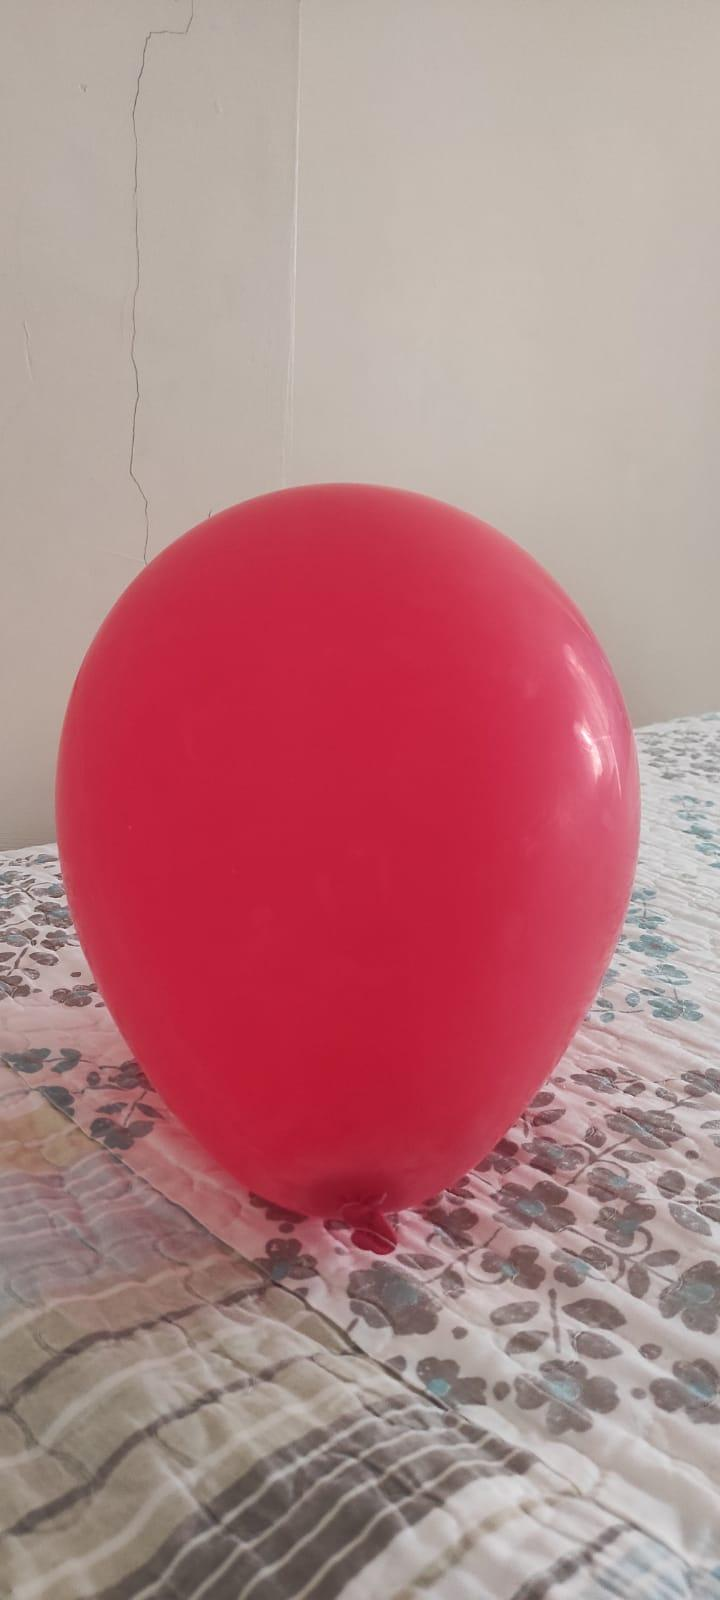red: (51, 474, 646, 1249)
